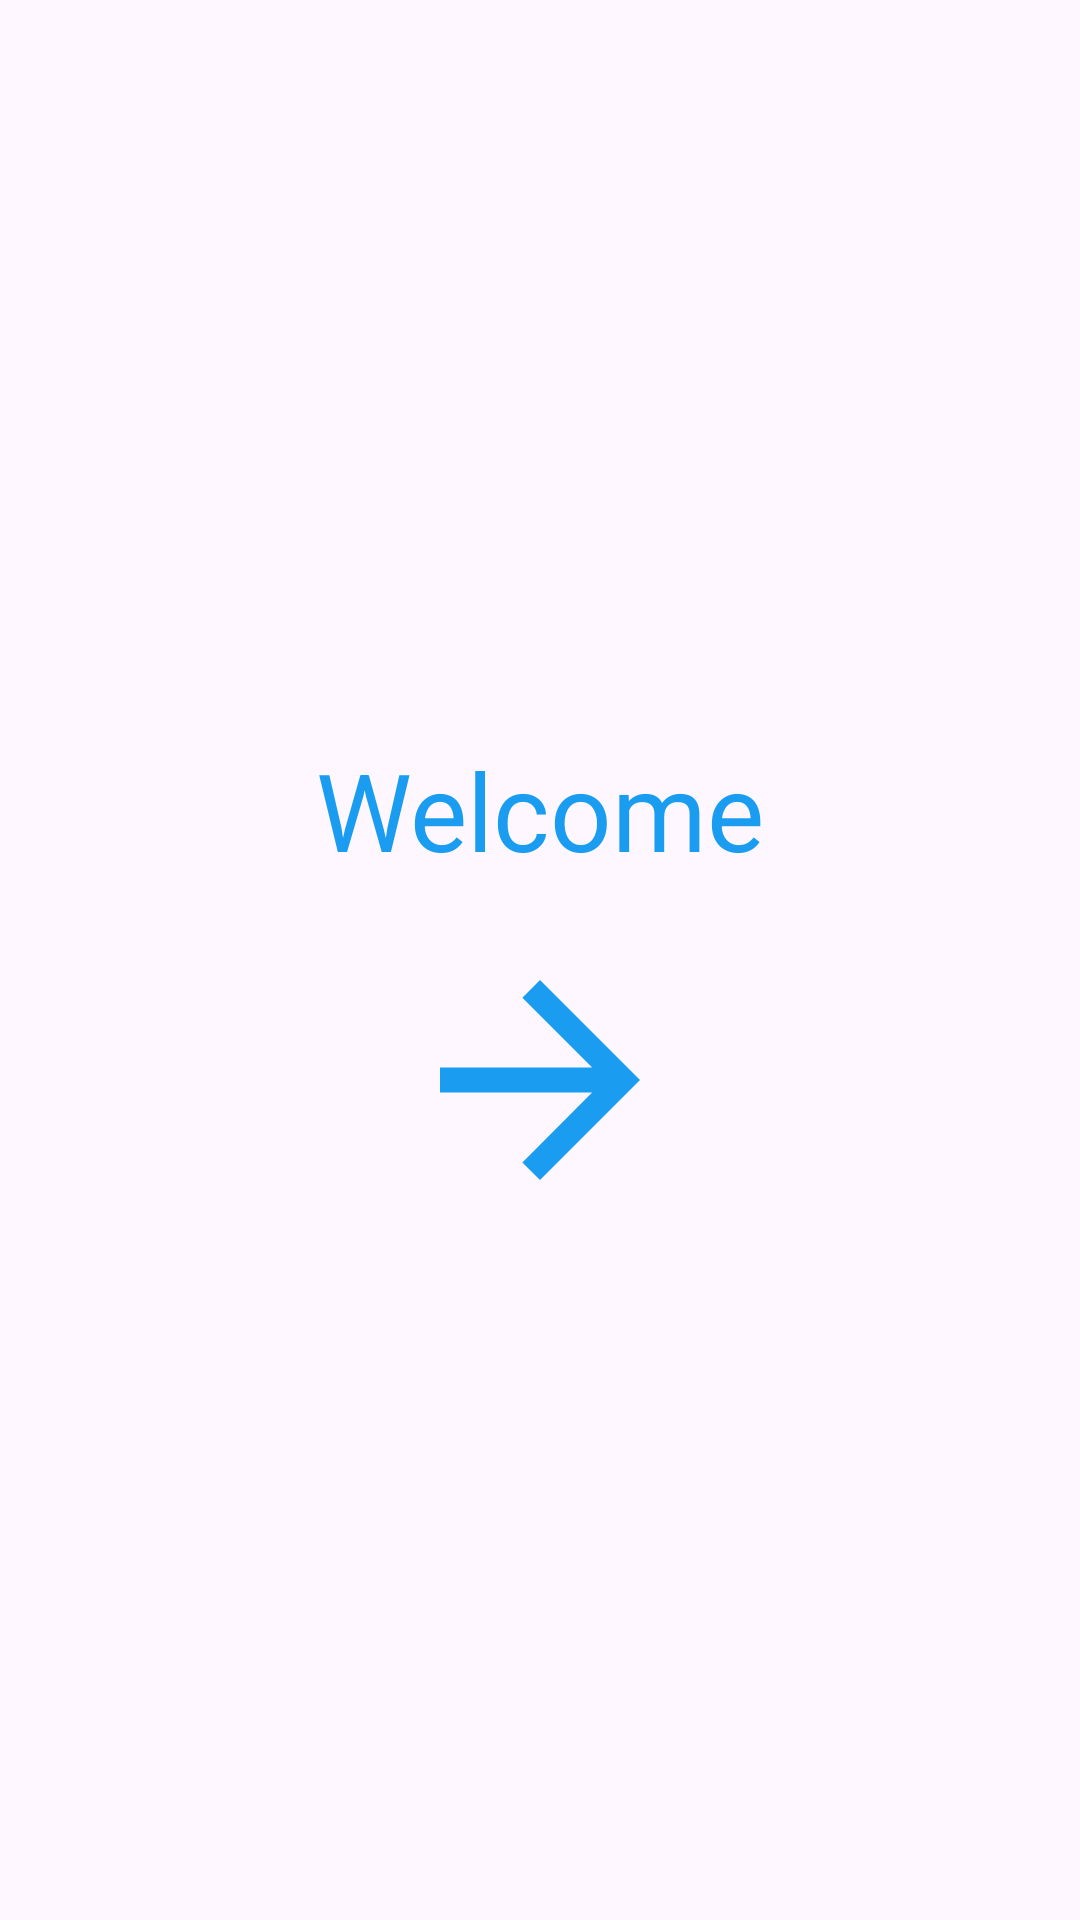

Named icons in this screenshot (1080*1920) and their bounding boxes, Rect(x1, y1, x2, y2):
arrow forward: Rect(440, 980, 640, 1180)
